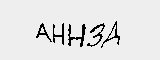А: (36, 22, 50, 41)
Д: (103, 18, 122, 45)
З: (88, 21, 103, 49)
Н: (67, 21, 87, 49), (50, 21, 64, 44)
